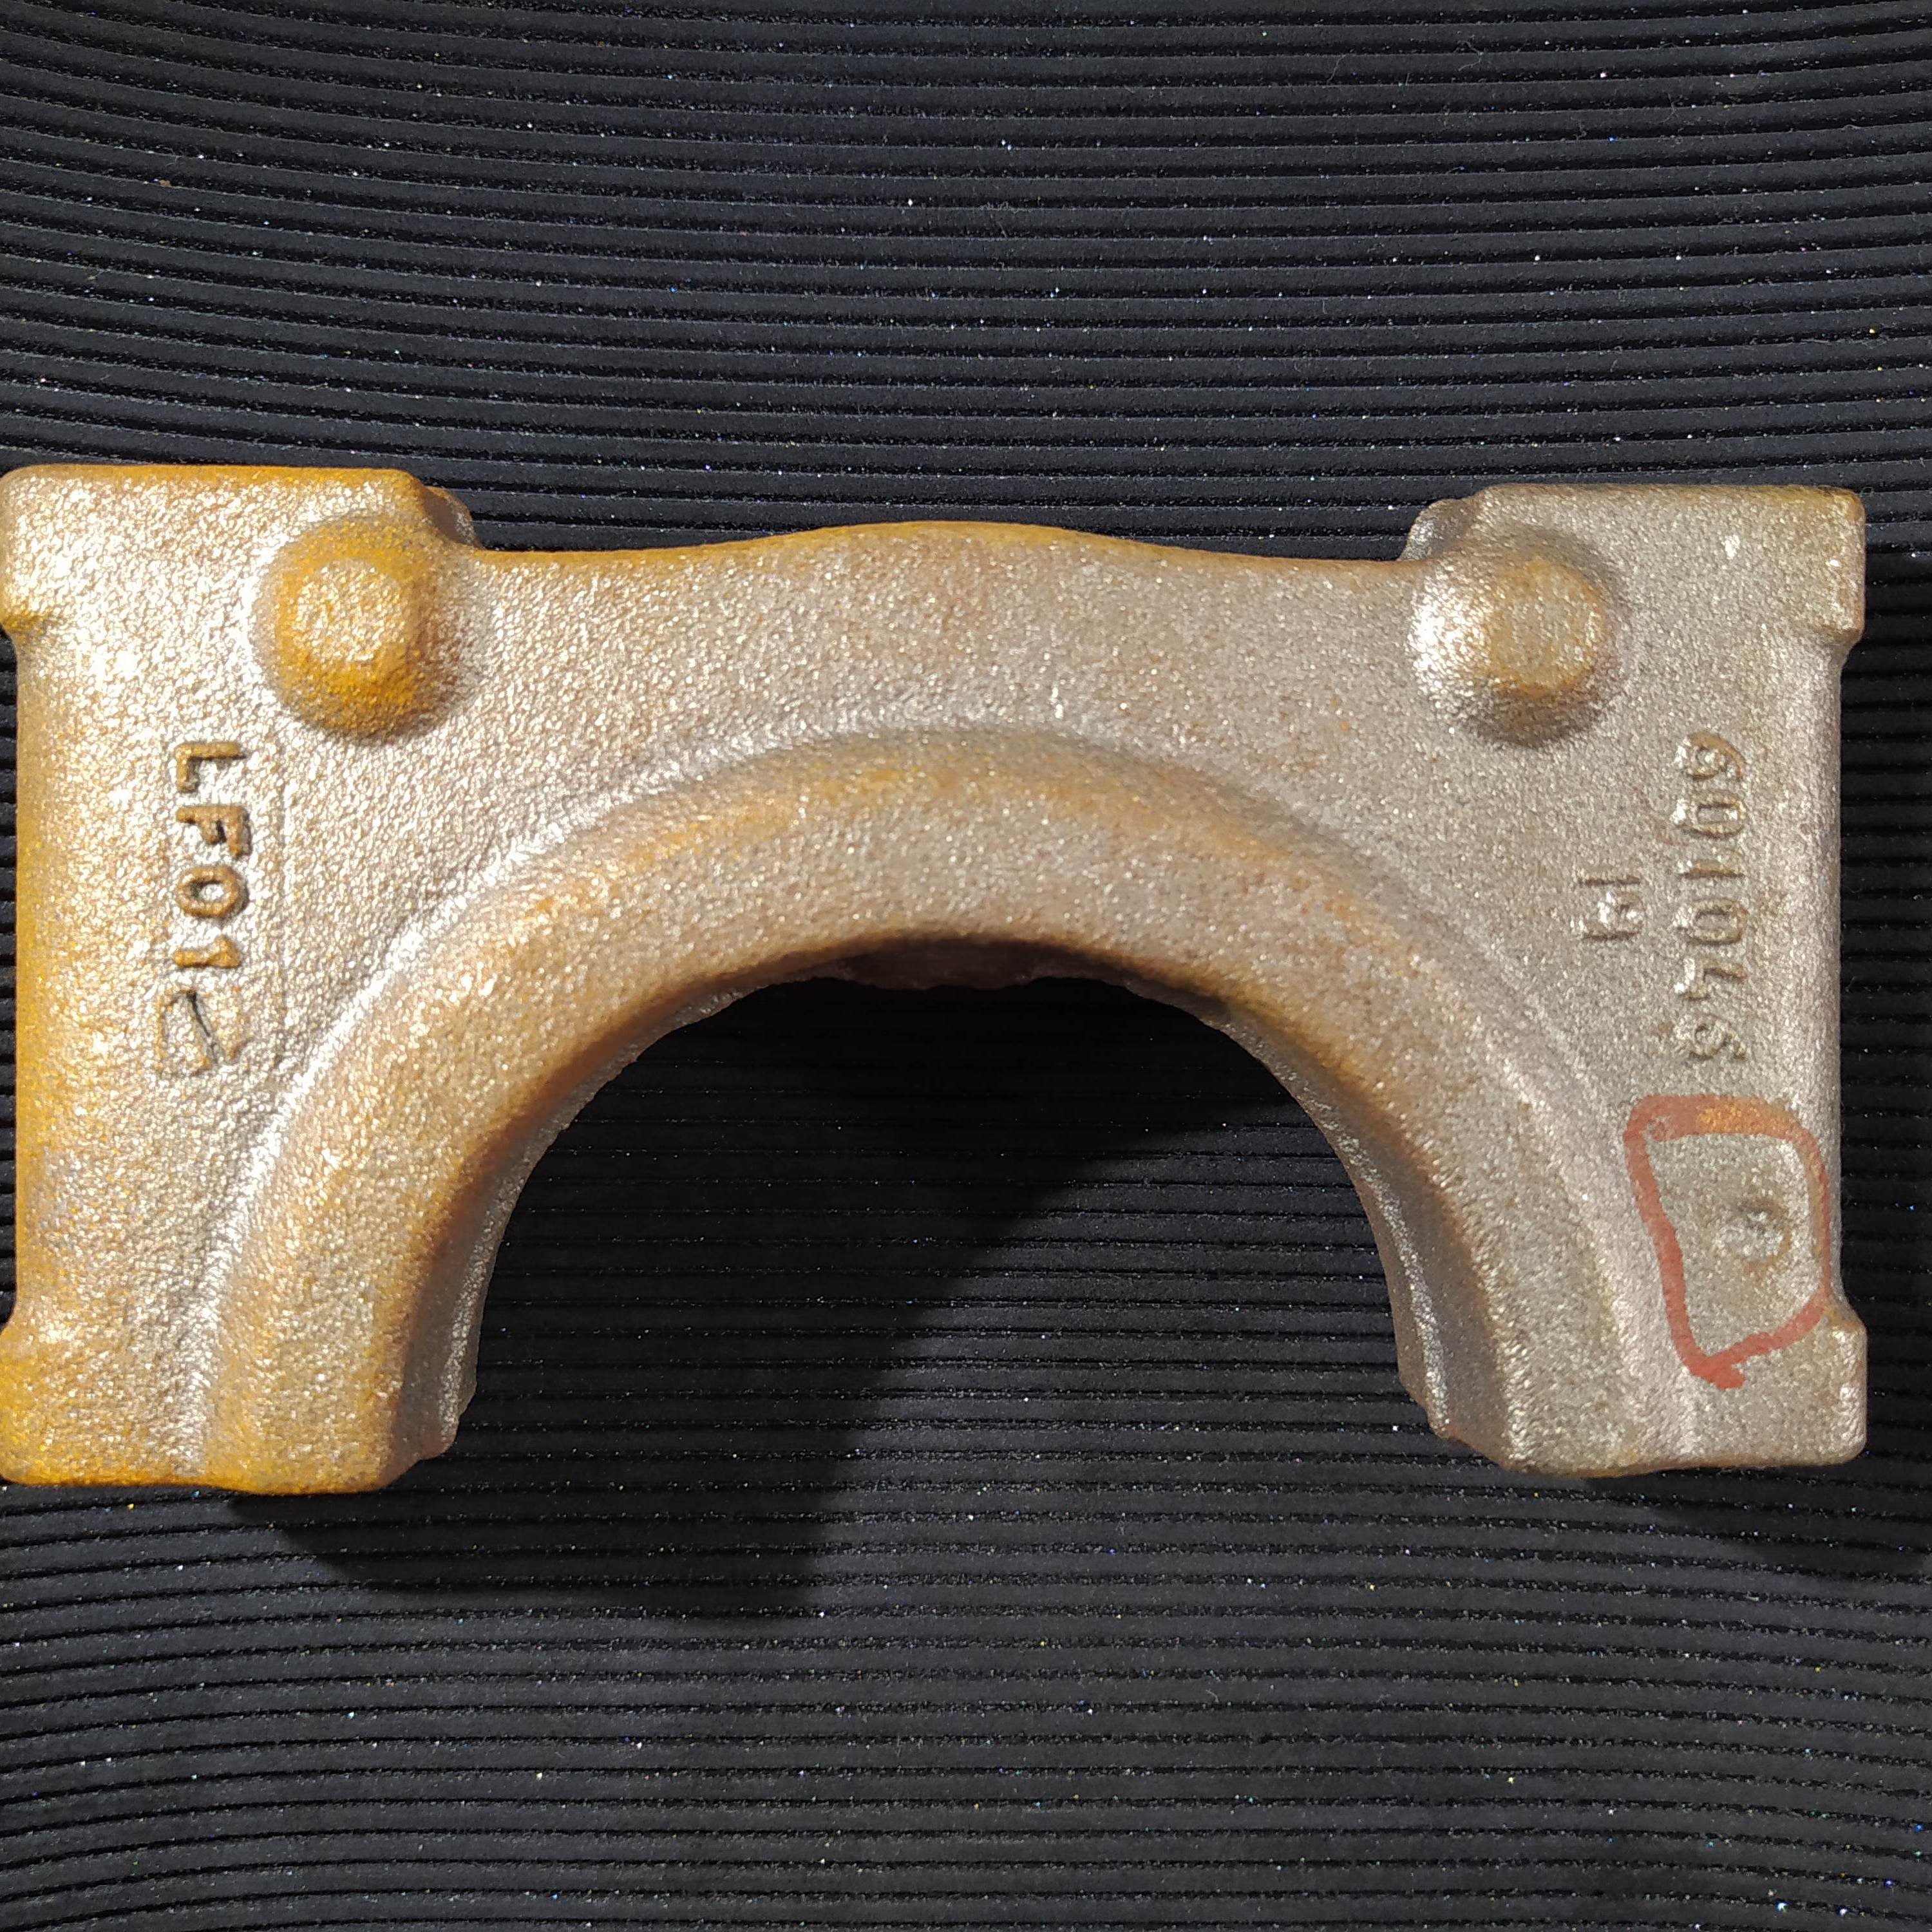buraco: (1711, 1185, 1799, 1286)
